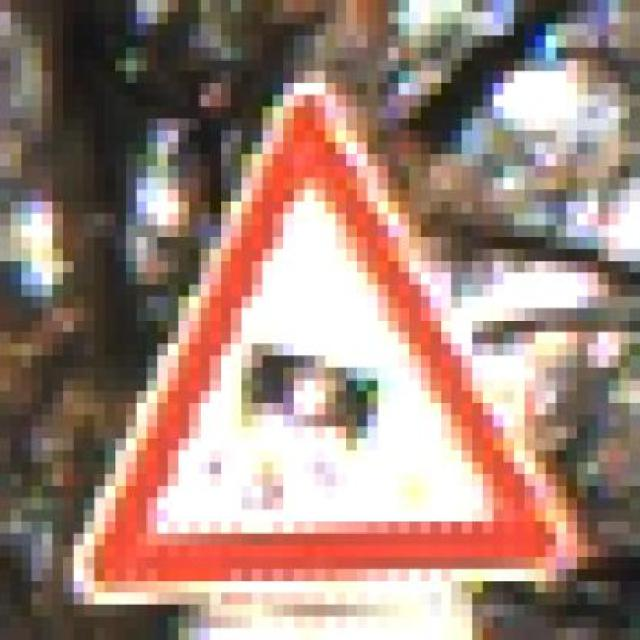Slippery Road Ahead: (60, 57, 595, 603)
